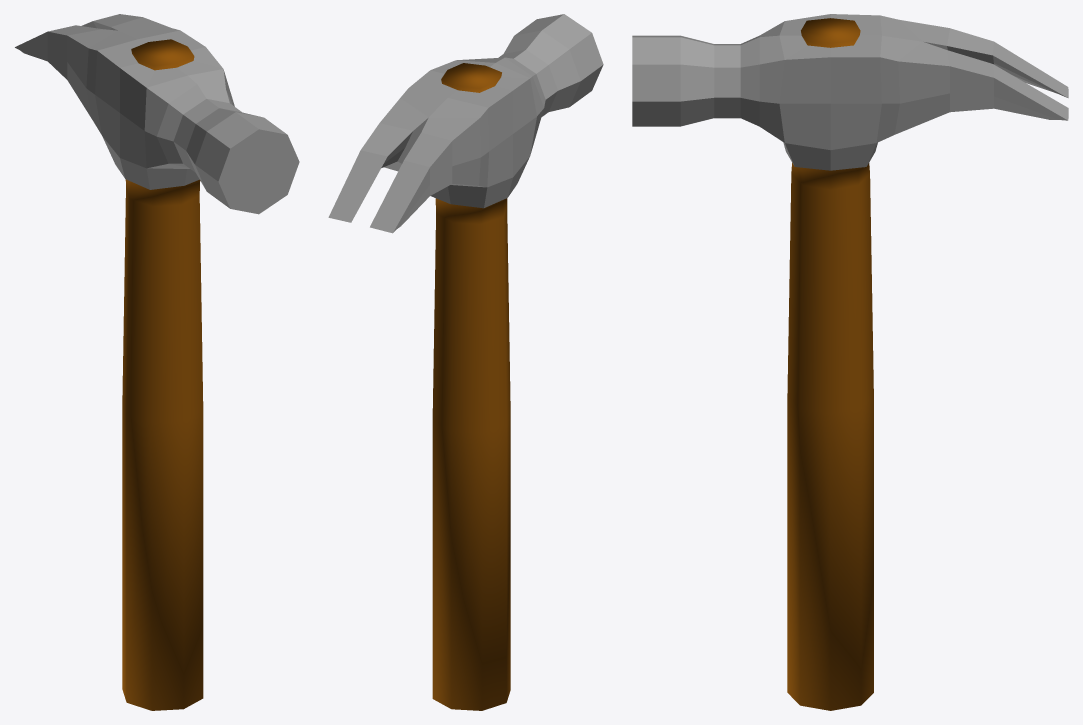
File: Hammer.fbx
3 views of the same model, side by side, from view 1: azimuth 30°, elevation 25°; view 2: azimuth 150°, elevation 25°; view 3: azimuth 270°, elevation 25° (orthographic). The views are drawn at different scales.
Parts seen in each view (by area): view 1: Hammer; view 2: Hammer; view 3: Hammer.
Part boxes in pixels (box(x1,y1,x2,y2)): Hammer: box(15, 14, 299, 710); Hammer: box(328, 14, 603, 710); Hammer: box(632, 14, 1068, 710).
Bounding box in the file's own units: 63.06 × 449 × 269.
